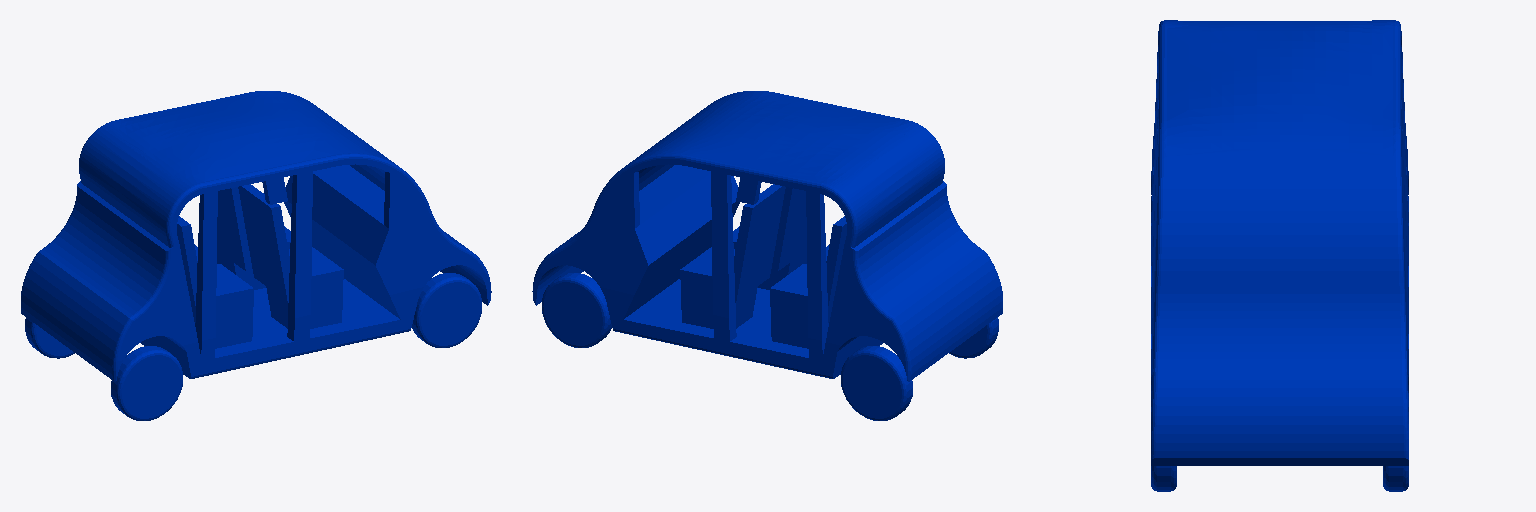
The robot description file, URDF, robot "car":
<?xml version="1.0"?>
<robot name="car">
<material name="Grey">
  <color rgba="0.2 0.2 0.2 1.0"/>
</material>
<material name="gem_e4_blue">
  <color rgba="0.0 0.25 0.75 1.0"/>
</material>

  <link name="base_link">
    <visual name="base_visual">
    <origin xyz="0 0 0" rpy="0 0 0" />
      <geometry>
        <mesh filename="package://simulator_art/rviz/gem_e4.stl" scale="0.001 0.001 0.001"/>
      </geometry>
      <material name="gem_e4_blue"/>
    </visual>
  </link>
</robot>

--- What the picture shows (computed from the rendered views, not written in the file) ---
The picture shows the robot from 3 angles, left to right: view 1: azimuth 30°, elevation 25°; view 2: azimuth 150°, elevation 25°; view 3: azimuth 270°, elevation 25°; orthographic projection.
Robot: car — 1 links, 0 joints (none); root link base_link; default pose: every joint at zero.
Visible links, largest first — view 1: base_link; view 2: base_link; view 3: base_link.
Boxes of the visible links, box(x1,y1,x2,y2) form: base_link: box(21, 91, 491, 420); base_link: box(532, 91, 1002, 420); base_link: box(1151, 20, 1408, 491).
Bounding box of the posed robot: 3.25 × 1.42 × 1.85 m (x, y, z).
1 mesh visuals loaded from 1 distinct referenced files (1 binary STL).